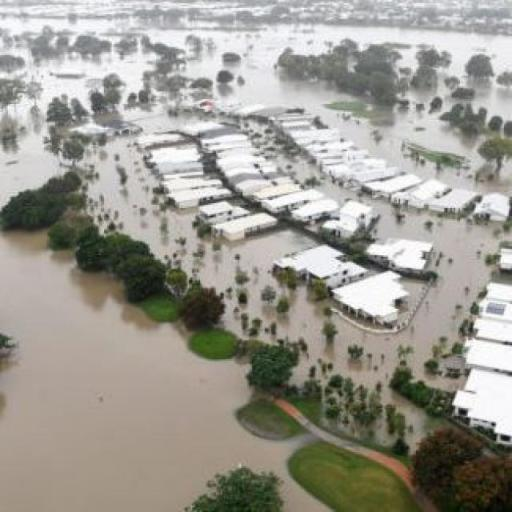flood: (87, 138, 499, 401), (0, 231, 332, 512), (217, 57, 481, 189), (0, 11, 512, 76), (0, 32, 153, 208), (276, 155, 321, 178), (69, 116, 111, 140), (187, 55, 225, 79), (120, 109, 149, 128), (496, 159, 512, 193)
house: (332, 271, 406, 331), (212, 213, 278, 242), (471, 192, 511, 230)
